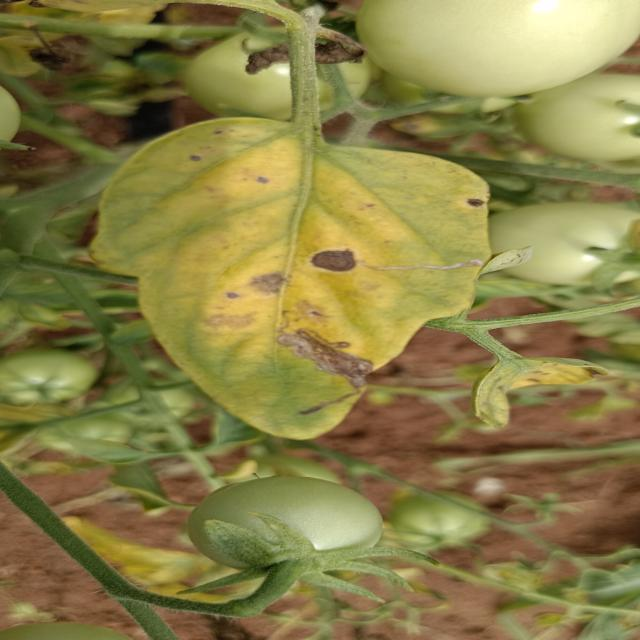tomato_early blight: (98, 116, 495, 439)
